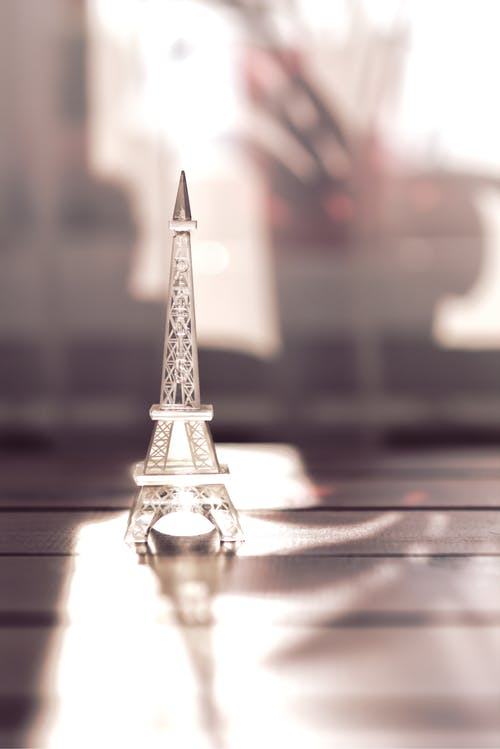eiffel tower: (111, 166, 251, 557)
